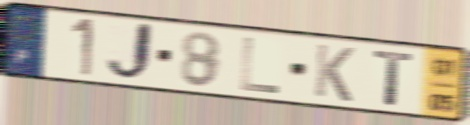1: (69, 17, 95, 79)
8: (178, 30, 223, 89)
J: (102, 20, 156, 85)
K: (311, 41, 357, 105)
L: (238, 35, 281, 96)
T: (371, 49, 418, 109)
